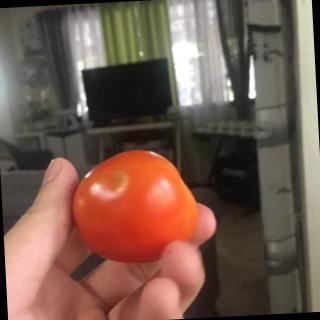Tomat: (65, 138, 220, 271)
